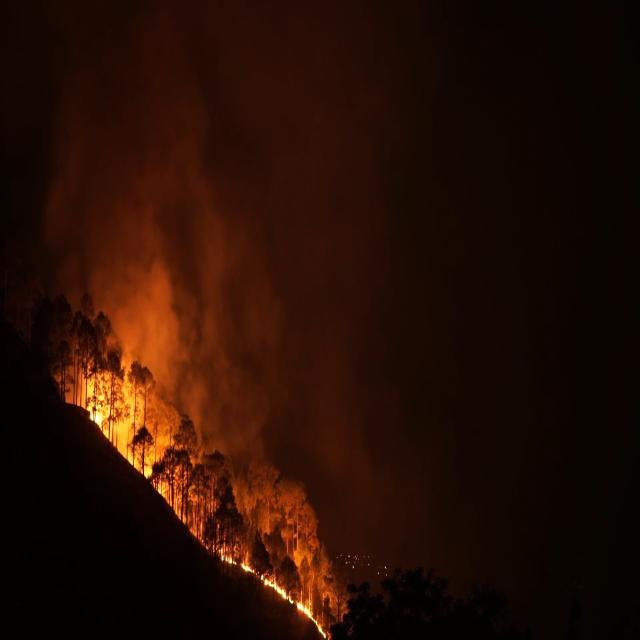Fire: (59, 324, 339, 640)
Smoke: (8, 10, 366, 434)
